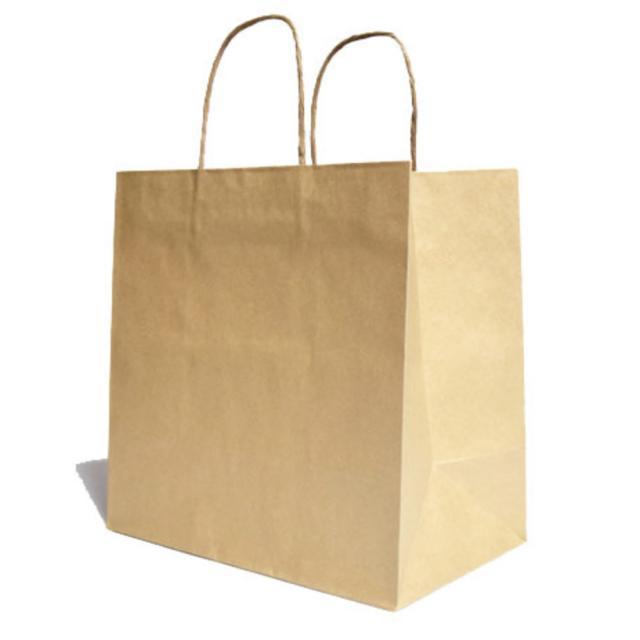biodegradable: (71, 8, 604, 621)
